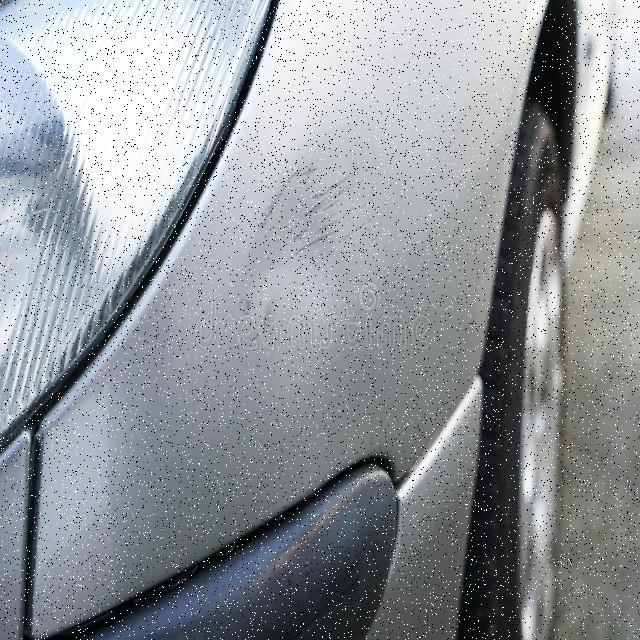front-bumper-dent: (68, 0, 607, 526)
